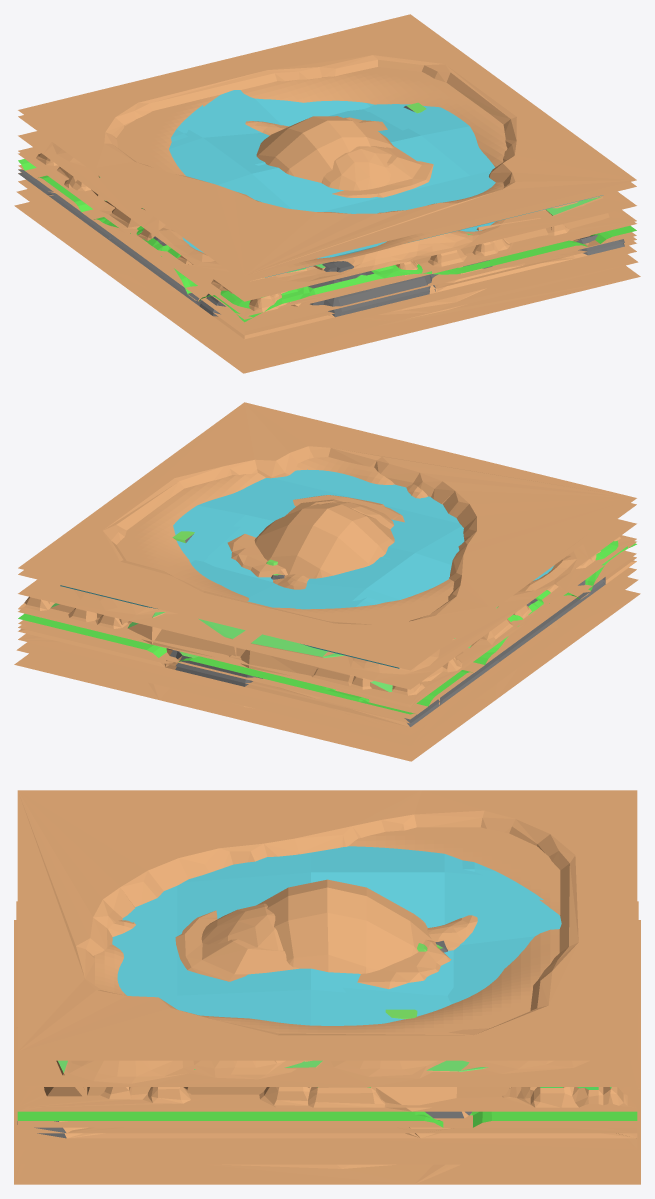
File: grounds.fbx
3 views of the same model, one above another, from view 1: azimuth 30°, elevation 25°; view 2: azimuth 150°, elevation 25°; view 3: azimuth 270°, elevation 25° (orthographic). The views are drawn at different scales.
Visible parts, largest first — view 1: lake02, ground.003, lake03, backround.001, lake01, backround.002, backround.007, backround.006, backround, backround.003, backround.004, backround.008 (+2 smaller); view 2: lake02, ground.003, backround.001, lake03, lake01, backround.002, backround.007, backround.006, backround.005, backround.003, backround, backround.004 (+2 smaller); view 3: lake02, ground.003, backround.001, lake03, lake01, backround.007, backround.002, backround.006, backround.005, backround, backround.004, backround.003 (+2 smaller).
Boxes of the visible parts, x1,y1,x2,y2 form: lake02: (18, 14, 636, 275); ground.003: (169, 90, 603, 277); lake03: (18, 67, 636, 282); backround.001: (14, 116, 640, 373); lake01: (18, 121, 636, 301); backround.002: (16, 146, 638, 358); backround.007: (18, 117, 636, 347); backround.006: (18, 147, 636, 316); backround: (18, 159, 636, 322); backround.003: (18, 165, 636, 331); backround.004: (18, 102, 636, 339); backround.008: (18, 168, 636, 335); lake02: (18, 402, 636, 663); ground.003: (173, 469, 464, 608); backround.001: (14, 504, 640, 761); lake03: (18, 457, 636, 670); lake01: (18, 484, 636, 689); backround.002: (16, 502, 638, 746); backround.007: (18, 495, 636, 735); backround.006: (18, 535, 636, 704); backround.005: (18, 541, 636, 707); backround.003: (18, 551, 636, 719); backround: (18, 540, 636, 714); backround.004: (18, 531, 636, 727); lake02: (17, 790, 637, 1051); ground.003: (112, 846, 561, 1025); backround.001: (14, 879, 640, 1184); lake03: (17, 827, 637, 1060); lake01: (17, 915, 637, 1086); backround.007: (17, 910, 637, 1149); backround.002: (16, 901, 638, 1164); backround.006: (17, 1087, 637, 1107); backround.005: (17, 1060, 637, 1111); backround: (17, 1111, 637, 1127); backround.004: (17, 940, 637, 1138); backround.003: (18, 1115, 636, 1127).
Bounding box in the file's own units: 7584 × 2200 × 7584.
